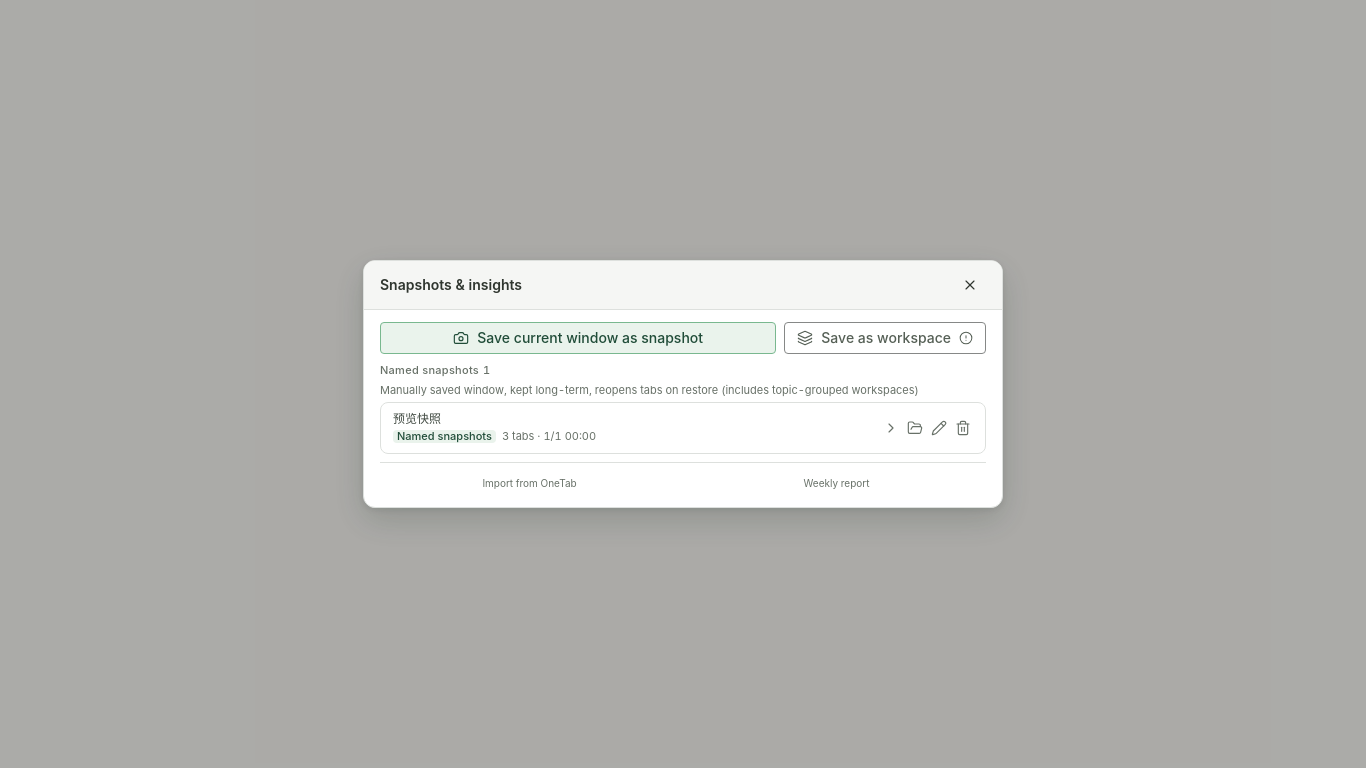
Test: SnapshotsPanel 恢复预览 › 展开详情显示三分类摘要：将新建 / 已存在 / 不恢复
# 断言用英文文案（测试环境 i18n 默认 en）
Click the button named "View tabs in this snapshot". click: [891, 428]
box: [881,418,901,438]
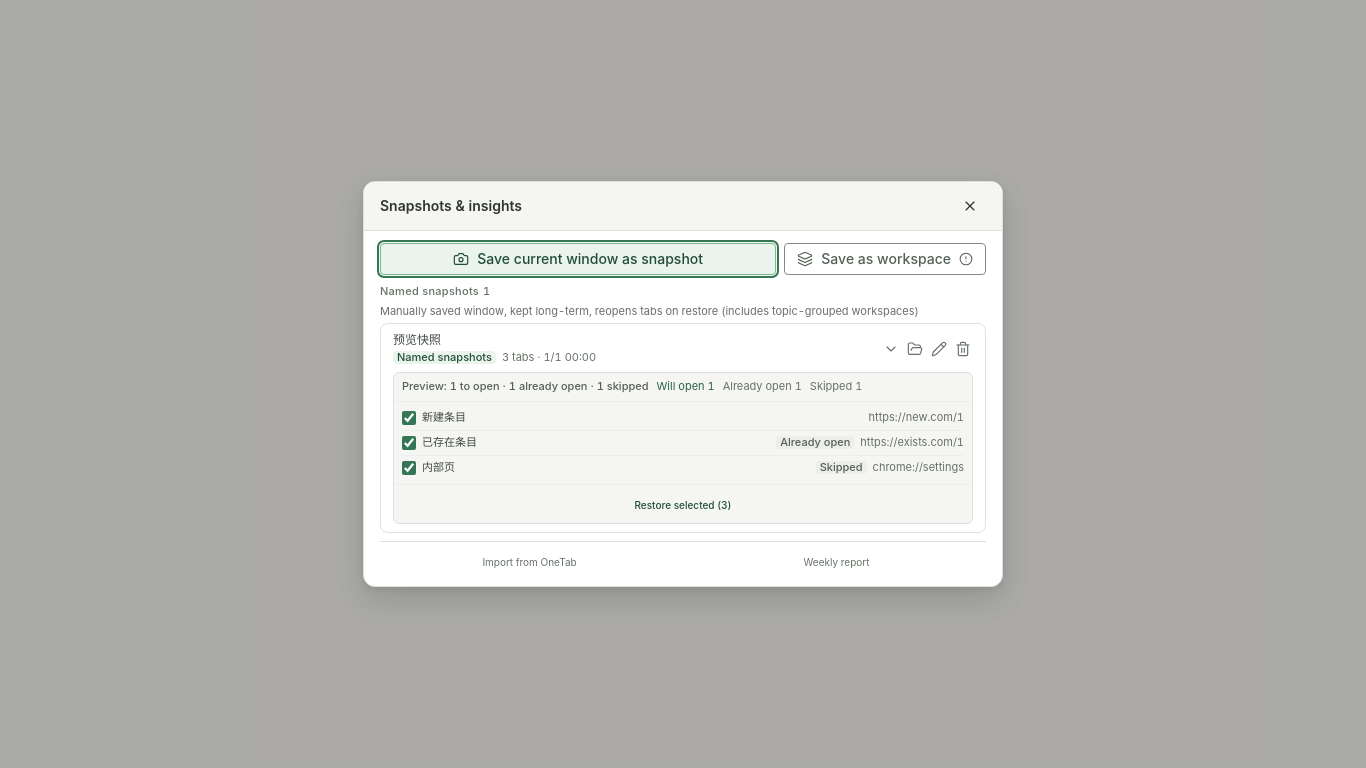
Check: the text "Preview: 1 to open · 1 already open · 1 skipped" is shown, box [402,379,648,395]
